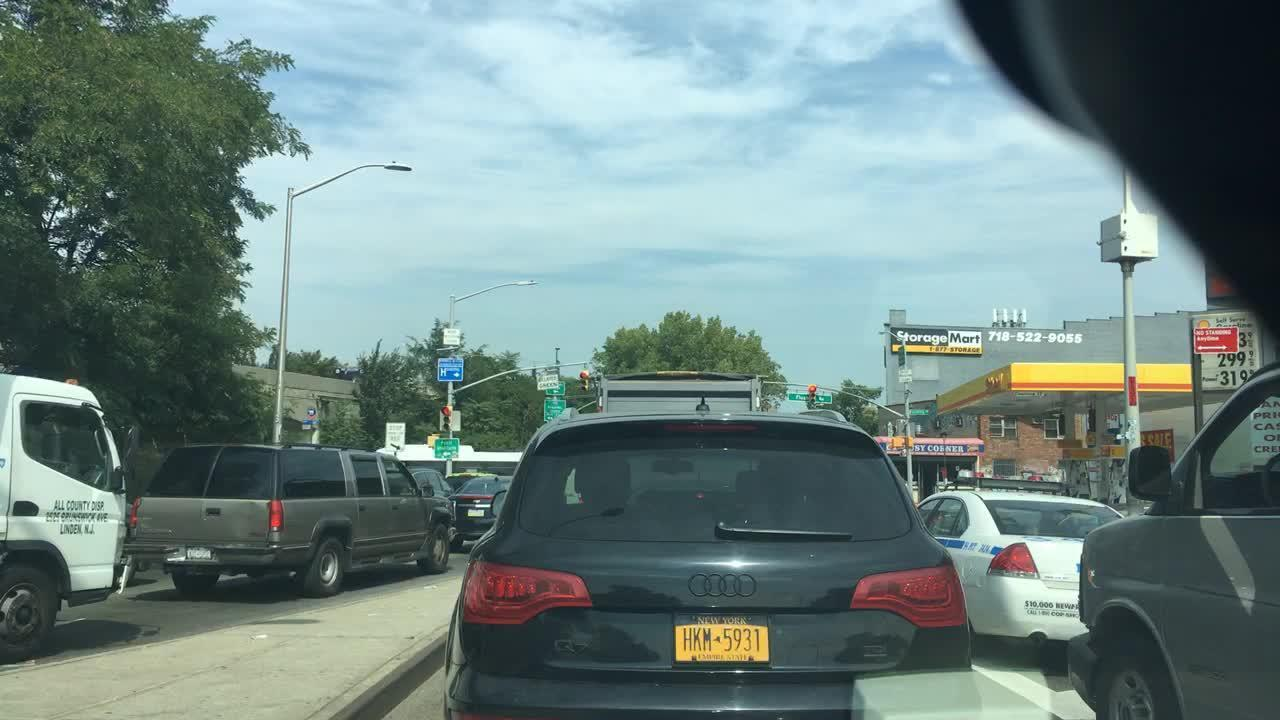Audi: (682, 569, 760, 604)
